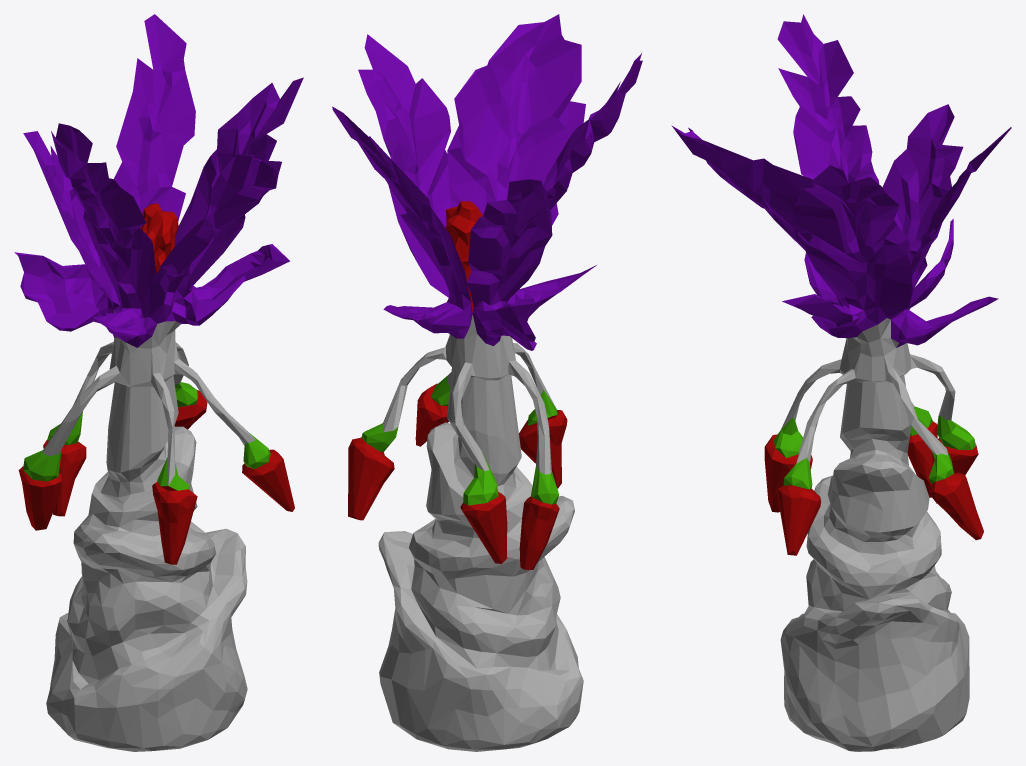
Rendered from Planta 19 LP UV.fbx.
3 renders of one model, left to right at view 1: azimuth 30°, elevation 25°; view 2: azimuth 150°, elevation 25°; view 3: azimuth 270°, elevation 25°, orthographic. The views are drawn at different scales.
Parts seen in each view (by area): view 1: P19_zobj:Group16754; view 2: P19_zobj:Group16754; view 3: P19_zobj:Group16754.
Part boxes in pixels (x1,y1,x2,y2): P19_zobj:Group16754: (14, 14, 303, 751); P19_zobj:Group16754: (332, 14, 642, 751); P19_zobj:Group16754: (671, 14, 1011, 751).
Bounding box in the file's own units: 2 × 4.81 × 2.31.
